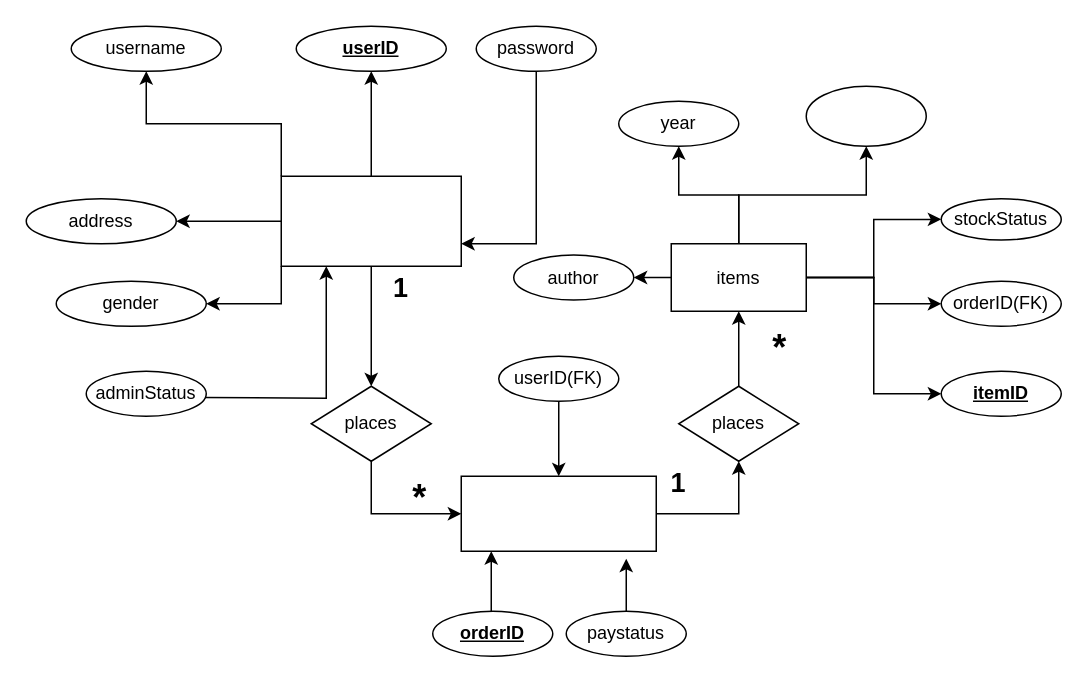
The diagram is 1088 pixels wide and 683 high, and some of its shapes have lost their labels. Each missing label, with the box of its shape:
name: (805, 85, 926, 146)
orders: (460, 475, 656, 551)
users: (280, 175, 461, 266)
